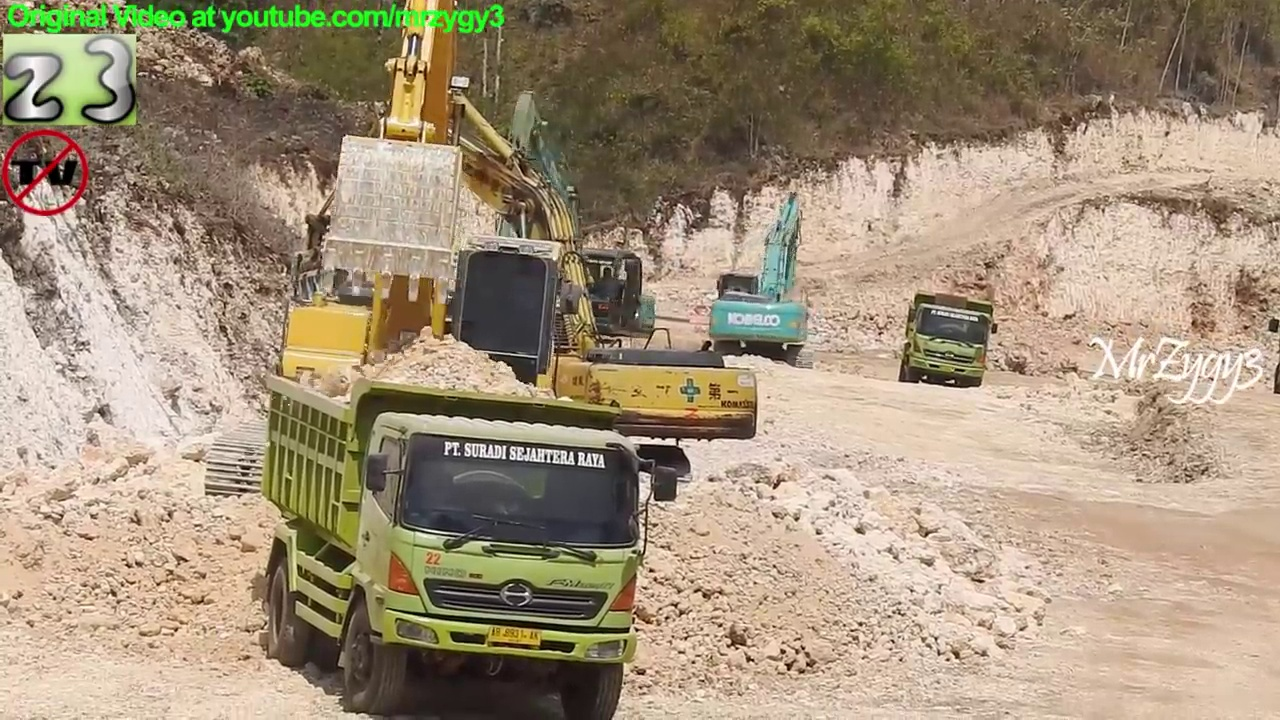excavator: (200, 1, 657, 521), (284, 55, 764, 514), (460, 83, 682, 392), (702, 189, 822, 375)
truck: (260, 367, 685, 720), (896, 286, 1003, 392)
